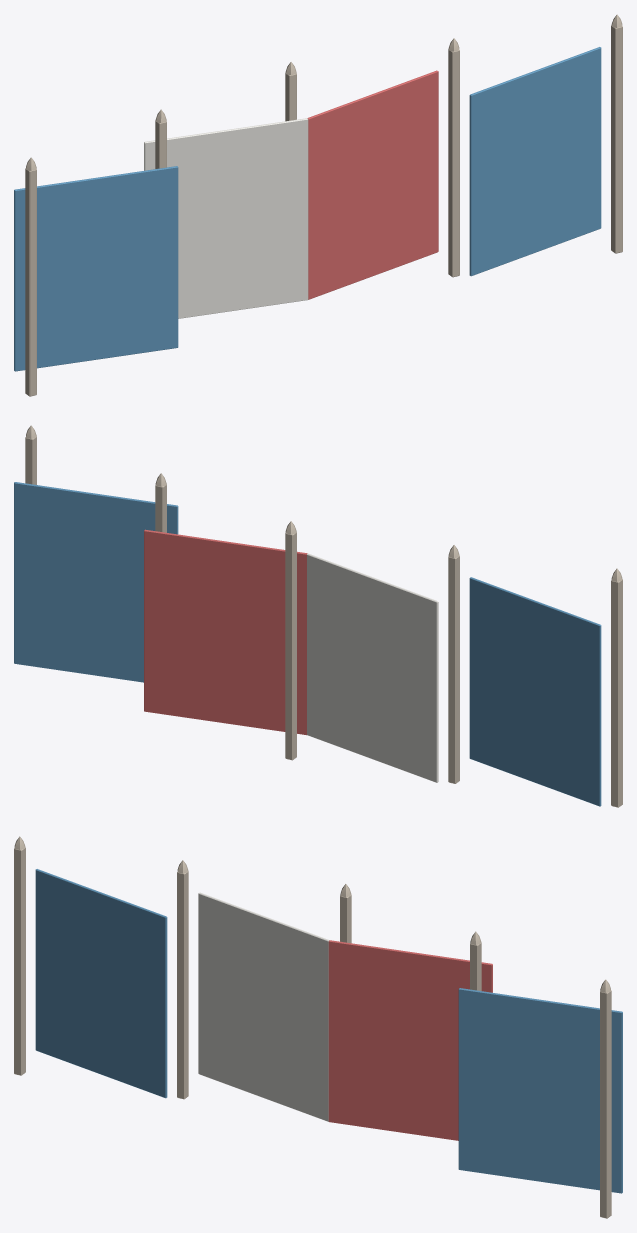
Rendered from amusement-arcade-and-seaside-pier-windbreak-8f752036__35422.glb.
3 renders of one model, top to bottom at view 1: azimuth 30°, elevation 25°; view 2: azimuth 150°, elevation 25°; view 3: azimuth 330°, elevation 25°, orthographic.
Visible parts, largest first — view 1: windbreak; view 2: windbreak; view 3: windbreak.
Boxes of the visible parts, x1,y1,x2,y2 form: windbreak: (14, 14, 622, 396); windbreak: (14, 425, 622, 807); windbreak: (14, 836, 622, 1218).
Bounding box in the file's own units: 3.34 × 1.27 × 0.3718.
